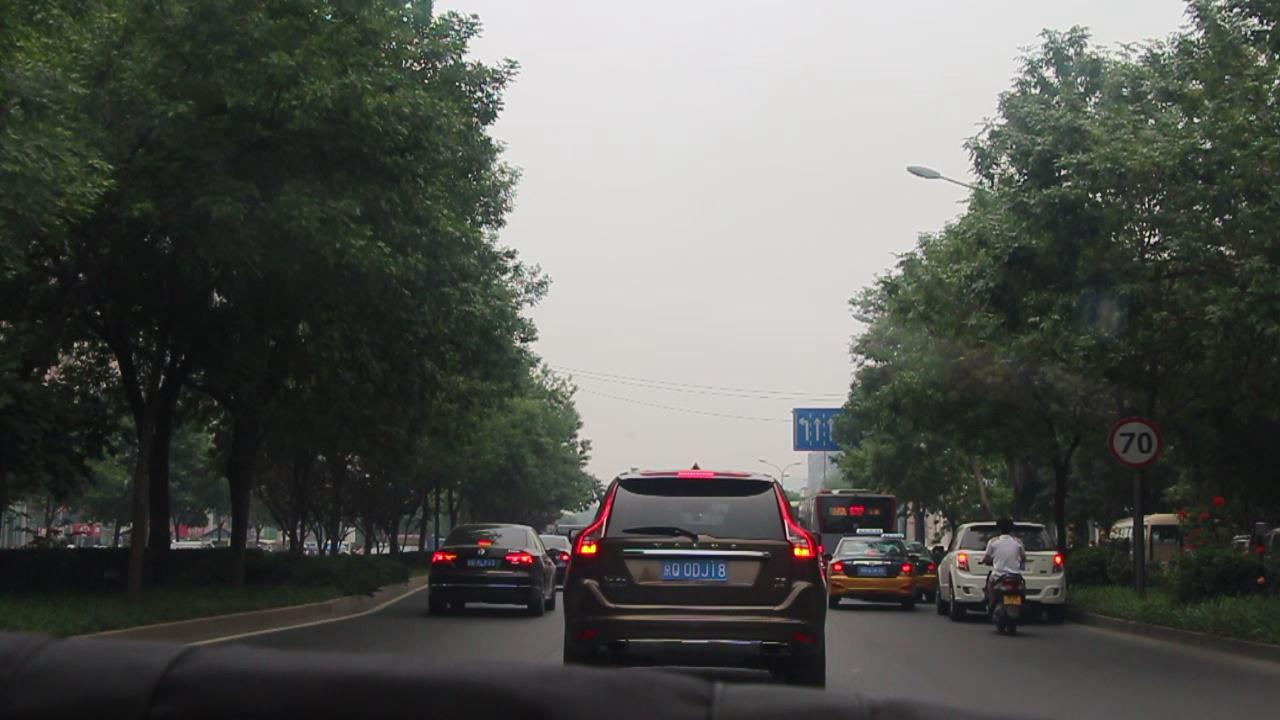Prohibitory Signs: (1107, 416, 1166, 473)
